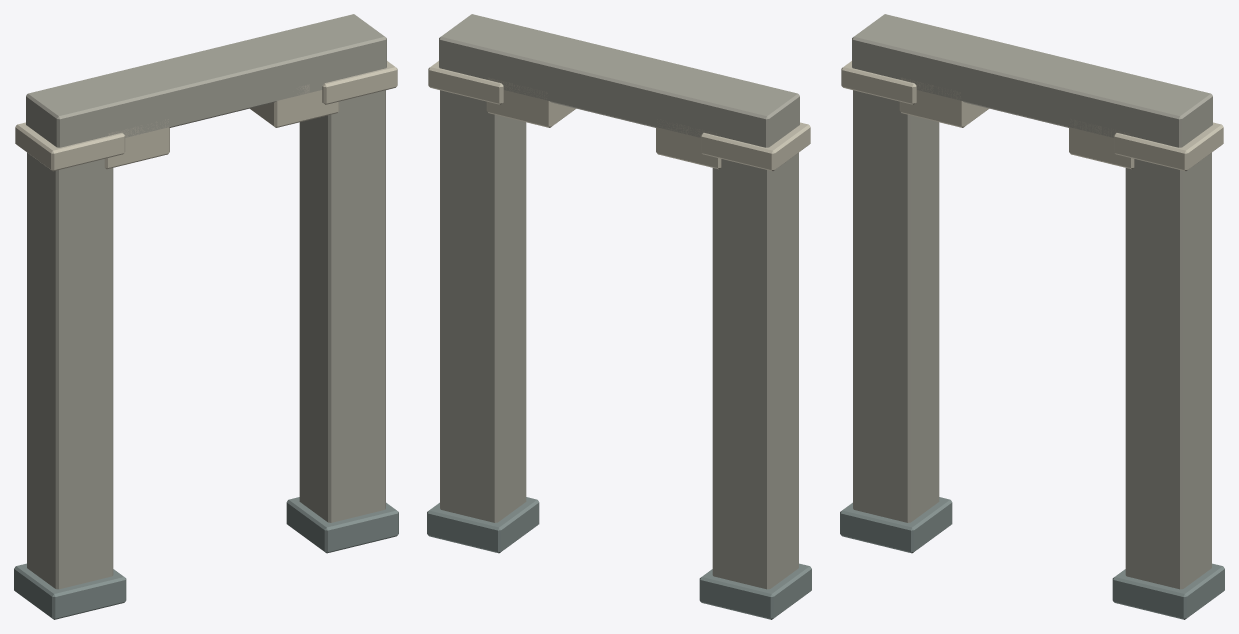
File: high_arch.glb
3 views of the same model, side by side, from view 1: azimuth 30°, elevation 25°; view 2: azimuth 150°, elevation 25°; view 3: azimuth 330°, elevation 25° (orthographic).
Visible parts, largest first — view 1: TV_high_arch; view 2: TV_high_arch; view 3: TV_high_arch.
Part boxes in pixels (x1,y1,x2,y2): TV_high_arch: (14, 14, 398, 619); TV_high_arch: (427, 14, 811, 619); TV_high_arch: (840, 14, 1224, 619).
Size of the model in its own units: 4.2 by 5.78 by 0.85.
